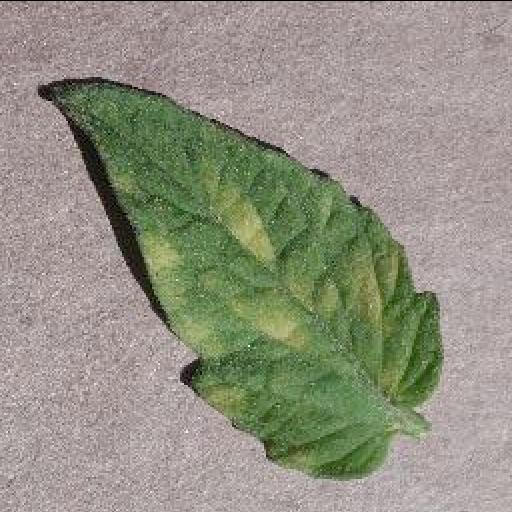disease_tomato: (38, 78, 442, 480)
